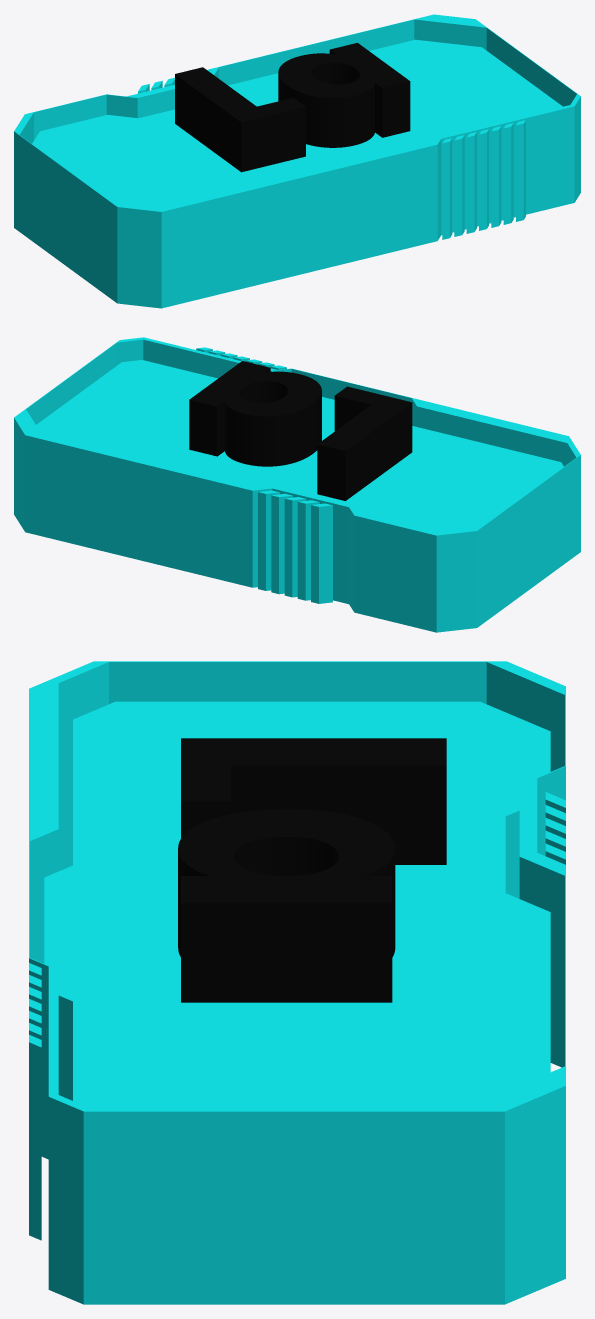
The model's file is 10.HurufLa.glb.
3 renders of one model, top to bottom at view 1: azimuth 30°, elevation 25°; view 2: azimuth 150°, elevation 25°; view 3: azimuth 270°, elevation 25°, orthographic. The views are drawn at different scales.
Parts seen in each view (by area): view 1: Curve.168, Curve.162, Curve.177, Curve.176, Curve.171, Curve.170, Curve.173, Curve.169, Curve.174, Curve.175, Curve.172; view 2: Curve.168, Curve.162, Curve.177, Curve.176, Curve.167, Curve.166, Curve.165, Curve.163, Curve.164; view 3: Curve.168, Curve.162, Curve.177, Curve.176, Curve.175.
Part boxes in pixels (x1,y1,x2,y2): Curve.168: (14, 14, 580, 308); Curve.162: (32, 39, 562, 207); Curve.177: (278, 43, 410, 147); Curve.176: (175, 67, 305, 172); Curve.171: (466, 132, 476, 233); Curve.170: (454, 135, 464, 236); Curve.173: (491, 126, 501, 227); Curve.169: (442, 138, 452, 239); Curve.174: (503, 123, 513, 224); Curve.175: (516, 120, 525, 221); Curve.172: (479, 129, 488, 230); Curve.168: (14, 337, 580, 632); Curve.162: (36, 360, 563, 533); Curve.177: (189, 361, 321, 466); Curve.176: (317, 386, 412, 500); Curve.167: (311, 503, 332, 603); Curve.166: (297, 500, 319, 600); Curve.165: (284, 497, 306, 597); Curve.163: (258, 490, 279, 590); Curve.164: (271, 493, 292, 594); Curve.168: (29, 661, 565, 1304); Curve.162: (44, 701, 550, 1110); Curve.177: (178, 809, 395, 1002); Curve.176: (181, 738, 446, 864); Curve.175: (29, 1035, 41, 1240).
Bounding box in the file's own units: 0.2966 × 0.0795 × 0.1496.
